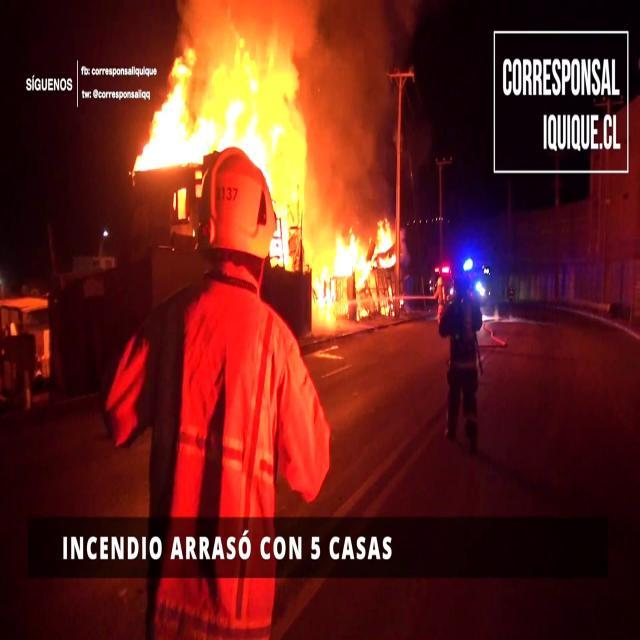Fire: (129, 32, 305, 179), (312, 211, 401, 327)
Smoke: (296, 0, 406, 212)
